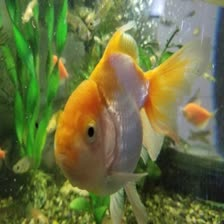Cuezo: (53, 28, 208, 212)
